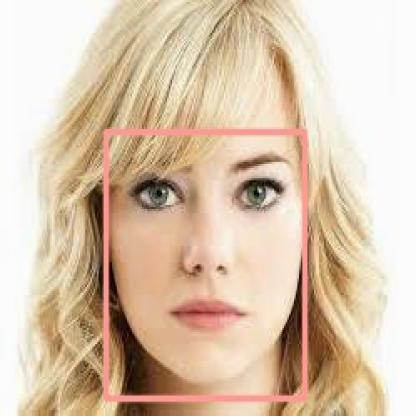without_mask: (105, 131, 304, 398)
